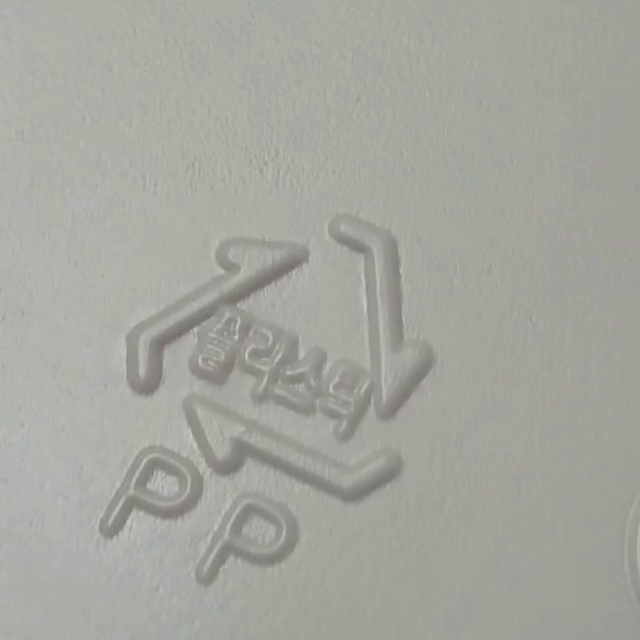Plastic: (127, 214, 431, 501)
